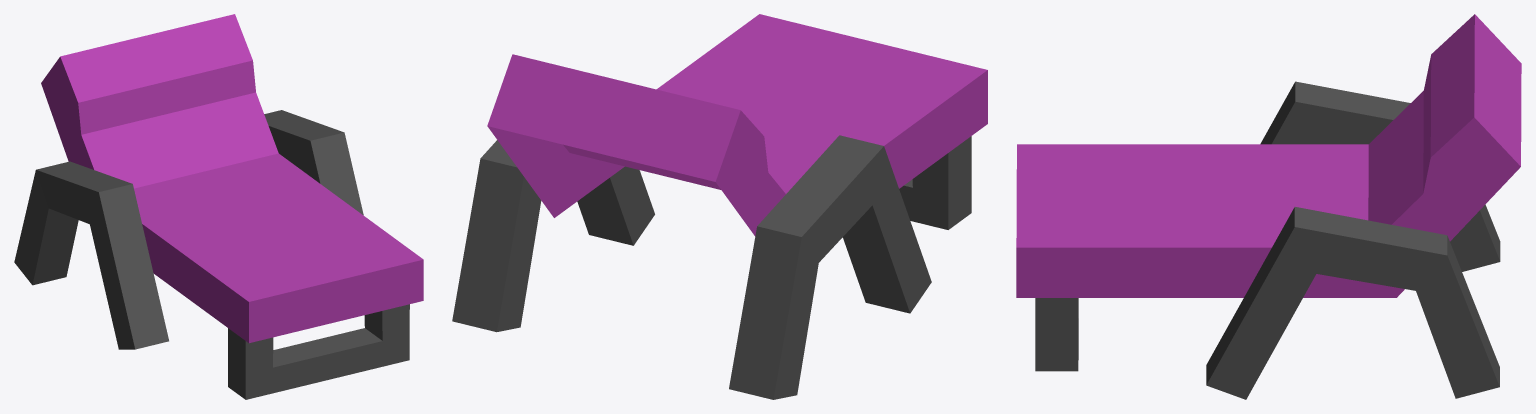
The model's file is lounge01_s02.FBX.
3 views of the same model, side by side, from view 1: azimuth 30°, elevation 25°; view 2: azimuth 150°, elevation 25°; view 3: azimuth 270°, elevation 25° (orthographic). The views are drawn at different scales.
Visible parts, largest first — view 1: lounge01_s02; view 2: lounge01_s02; view 3: lounge01_s02.
Part boxes in pixels (x1,y1,x2,y2): lounge01_s02: (14, 14, 423, 399); lounge01_s02: (452, 14, 987, 399); lounge01_s02: (1016, 14, 1521, 399).
Size of the model in its own units: 114 by 167 by 95.27.
Materials: 1 (1 with a texture image).
